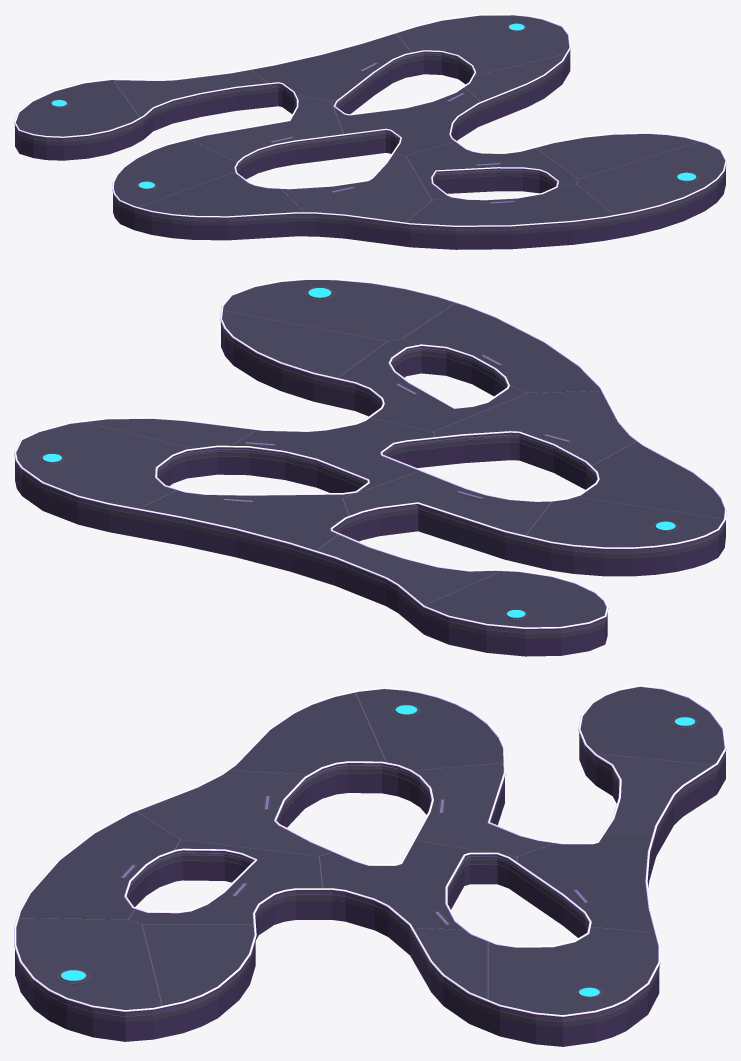
File: momentum_circuit_foreground_v4.glb
3 views of the same model, one above another, from view 1: azimuth 30°, elevation 25°; view 2: azimuth 150°, elevation 25°; view 3: azimuth 270°, elevation 25° (orthographic). The views are drawn at different scales.
Parts seen in each view (by area): view 1: Foreground_V4DeckPanelA, Foreground_V4DeckPanelB, Foreground_V4SidewallLow, Foreground_V4InsetCeramic, Foreground_V4SidewallHigh, StaticDeckRim, Foreground_V4LavenderSeamInlay, Foreground_StabilizerCyanInset; view 2: Foreground_V4DeckPanelA, Foreground_V4DeckPanelB, Foreground_V4SidewallLow, Foreground_V4InsetCeramic, Foreground_V4SidewallHigh, StaticDeckRim, Foreground_V4LavenderSeamInlay; view 3: Foreground_V4DeckPanelA, Foreground_V4DeckPanelB, Foreground_V4SidewallLow, StaticDeckRim, Foreground_V4InsetCeramic, Foreground_V4SidewallHigh, Foreground_V4LavenderSeamInlay, Foreground_StabilizerCyanInset.
Part boxes in pixels (left/top/right/bottom): Foreground_V4DeckPanelA: left=16, top=33, right=613, bottom=225; Foreground_V4DeckPanelB: left=114, top=15, right=724, bottom=222; Foreground_V4SidewallLow: left=15, top=57, right=725, bottom=249; Foreground_V4InsetCeramic: left=15, top=23, right=725, bottom=234; Foreground_V4SidewallHigh: left=14, top=15, right=726, bottom=230; StaticDeckRim: left=14, top=14, right=726, bottom=226; Foreground_V4LavenderSeamInlay: left=113, top=33, right=698, bottom=222; Foreground_StabilizerCyanInset: left=51, top=23, right=695, bottom=188; Foreground_V4DeckPanelA: left=140, top=303, right=724, bottom=627; Foreground_V4DeckPanelB: left=16, top=280, right=635, bottom=605; Foreground_V4SidewallLow: left=15, top=330, right=725, bottom=656; Foreground_V4InsetCeramic: left=15, top=287, right=725, bottom=638; Foreground_V4SidewallHigh: left=15, top=280, right=725, bottom=633; StaticDeckRim: left=14, top=278, right=726, bottom=628; Foreground_V4LavenderSeamInlay: left=86, top=303, right=723, bottom=605; Foreground_V4DeckPanelA: left=19, top=687, right=724, bottom=931; Foreground_V4DeckPanelB: left=16, top=753, right=712, bottom=1014; Foreground_V4SidewallLow: left=15, top=741, right=725, bottom=1046; StaticDeckRim: left=14, top=685, right=726, bottom=1016; Foreground_V4InsetCeramic: left=15, top=704, right=725, bottom=1027; Foreground_V4SidewallHigh: left=15, top=687, right=726, bottom=1022; Foreground_V4LavenderSeamInlay: left=19, top=693, right=712, bottom=1005; Foreground_StabilizerCyanInset: left=61, top=705, right=694, bottom=996.
Size of the model in its own units: 94.52 by 4.25 by 86.03.
